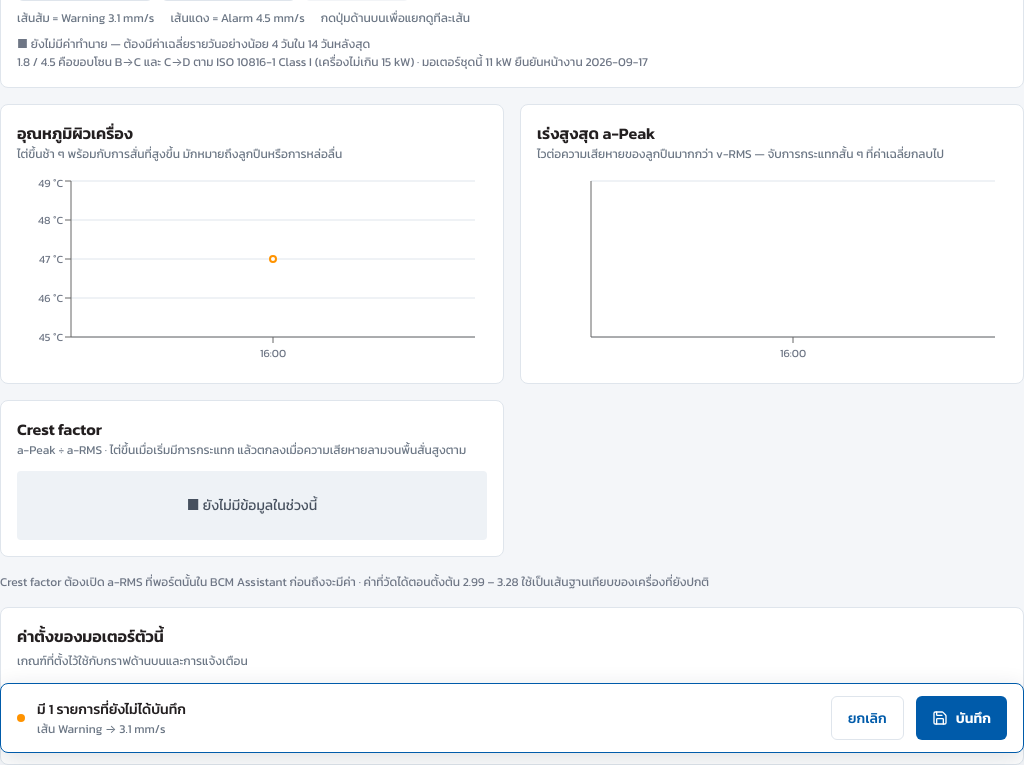
Test: MotorDetail › กดยกเลิกแล้วค่ากลับเป็นเดิม แถบบันทึกหาย
Earlier steps of the test are not shown.
(page scrolled)
Click the button "ยกเลิก": (867, 718) [831,696,904,740]
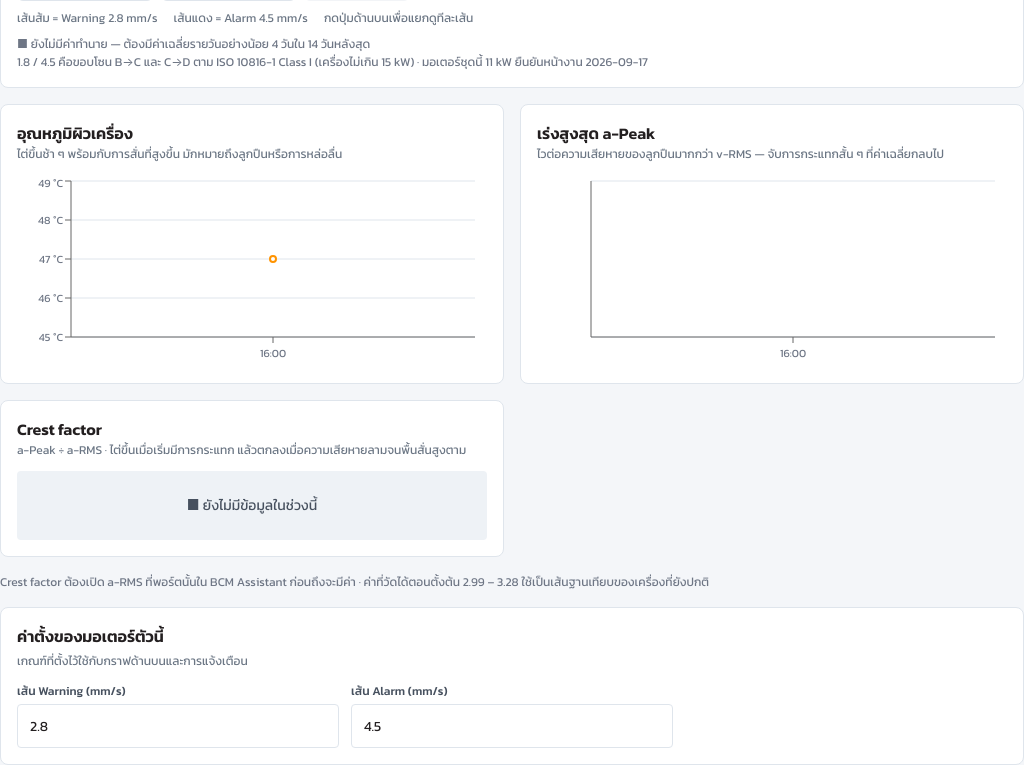
Check: the button "บันทึก" is not shown
Check: the number field labelled "เส้น Warning (mm/s)" holds "2.8", box [17,704,339,748]
